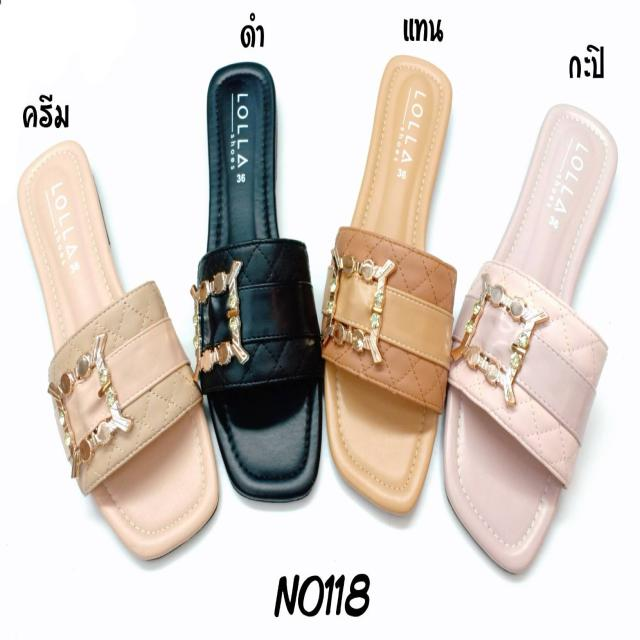black: (206, 67, 322, 493)
cream: (19, 142, 214, 559)
kapi: (450, 104, 618, 565)
tan: (323, 55, 451, 510)
